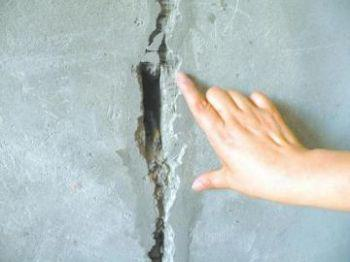Spalling: (133, 1, 187, 262)
